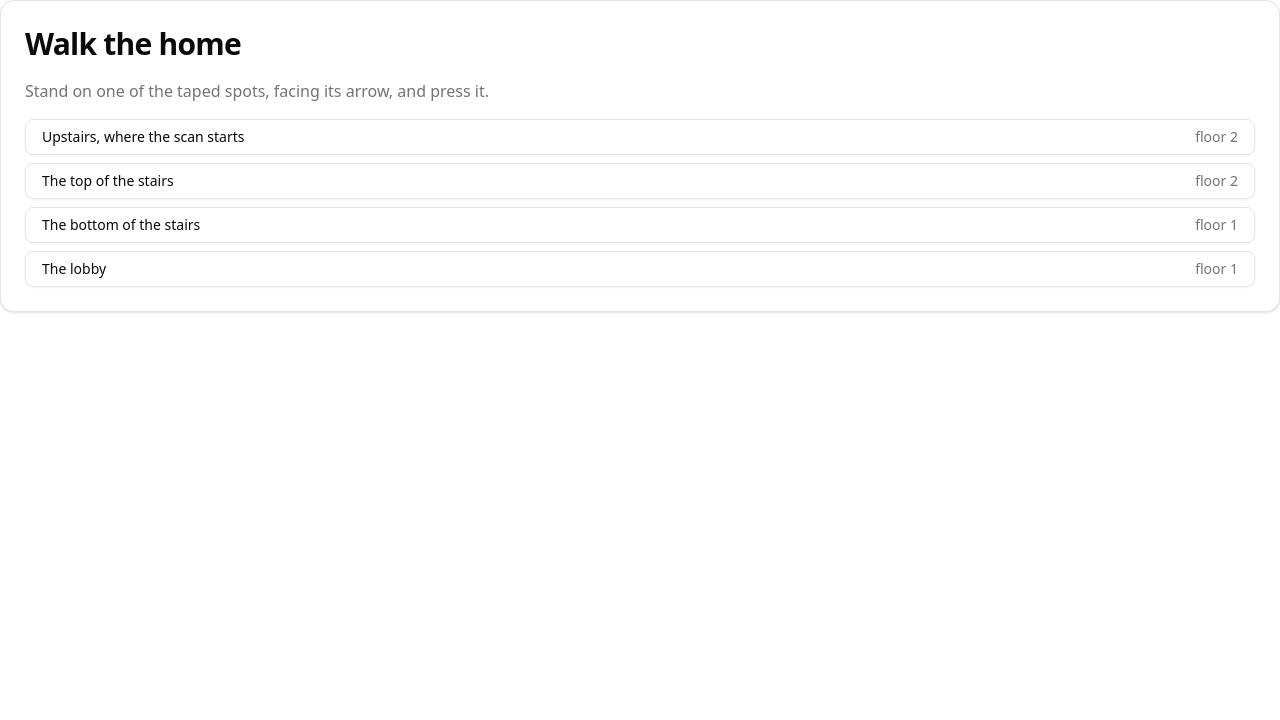
Test: says so where the phone refuses the session itself
Click the button "Upstairs, where the scan starts floor 2" at [143, 136], box x1=25 y1=118 x2=1255 y2=154
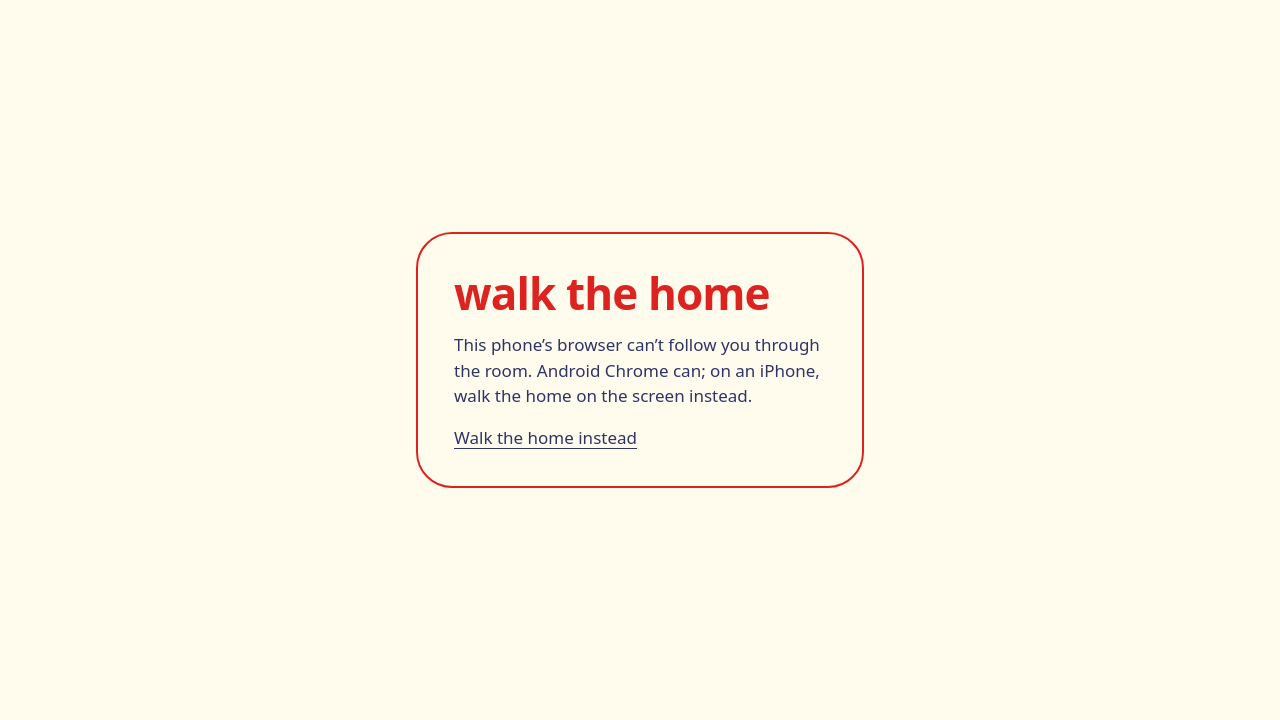
Expected: the text "can’t follow you through the room" is shown, x1=454 y1=333 x2=820 y2=407
